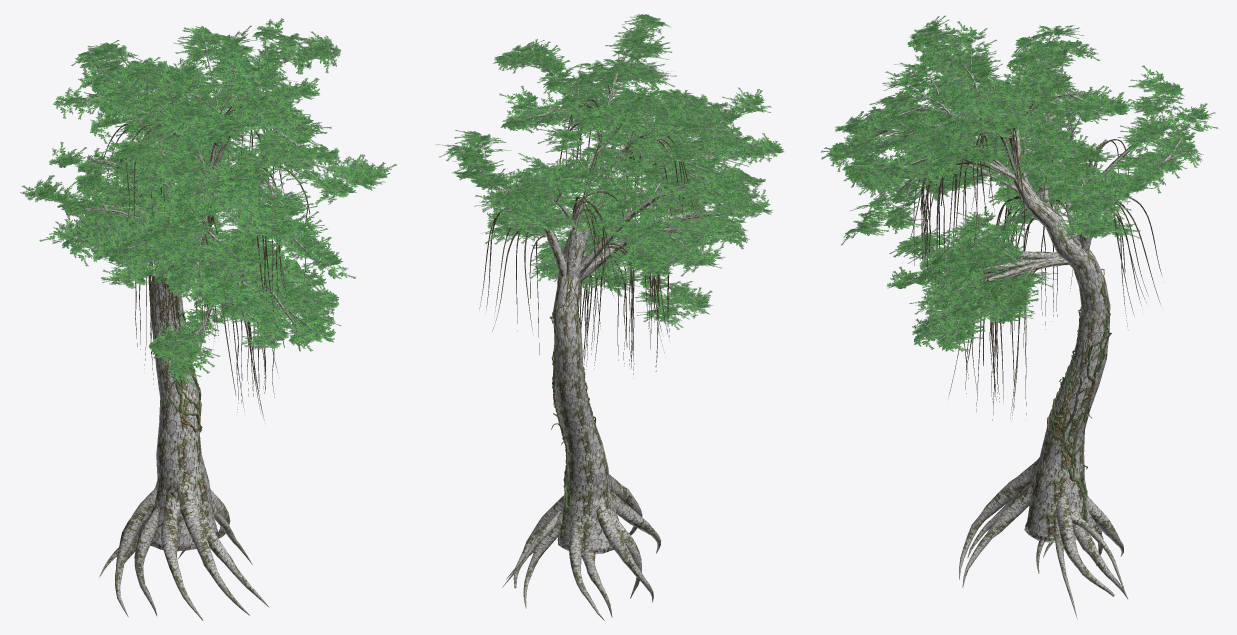
Rendered from Big_tree_01_D.glb.
3 renders of one model, left to right at view 1: azimuth 30°, elevation 25°; view 2: azimuth 150°, elevation 25°; view 3: azimuth 270°, elevation 25°, orthographic. The views are drawn at different scales.
Visible parts, largest first — view 1: Big_tree_01_D; view 2: Big_tree_01_D; view 3: Big_tree_01_D.
Boxes of the visible parts, x1=… form: Big_tree_01_D: x1=20, y1=18, x2=396, y2=620; Big_tree_01_D: x1=436, y1=14, x2=784, y2=620; Big_tree_01_D: x1=820, y1=15, x2=1217, y2=619.
Size of the model in its own units: 12.61 by 22.98 by 14.91.
4 materials, 4 textured.
